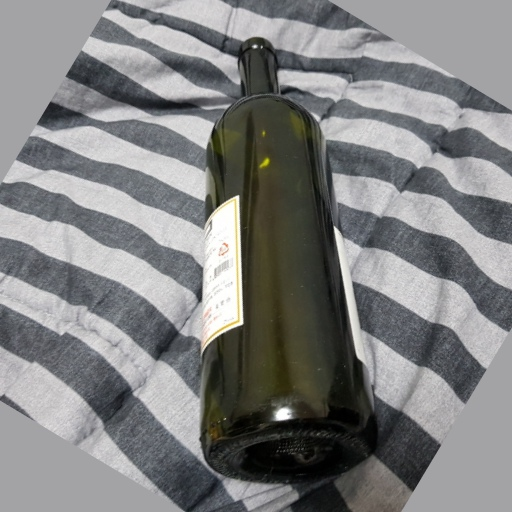Glass_2: (197, 33, 381, 486)
